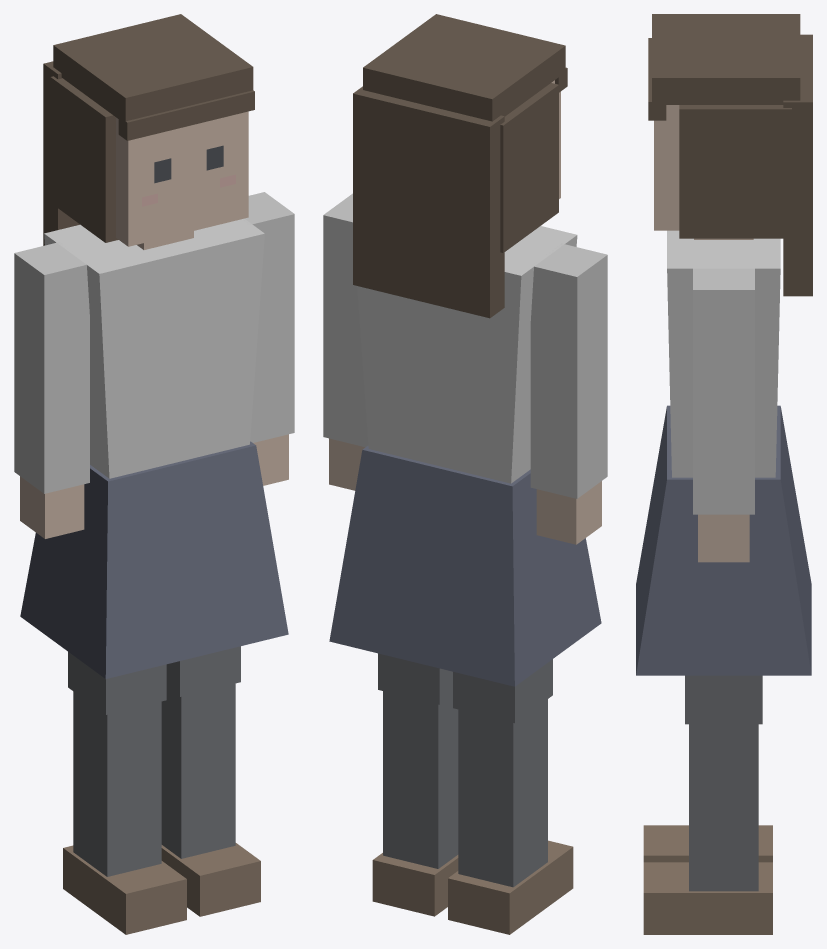
The model's file is walker_1.glb.
3 renders of one model, left to right at view 1: azimuth 30°, elevation 25°; view 2: azimuth 150°, elevation 25°; view 3: azimuth 270°, elevation 25°, orthographic. The views are drawn at different scales.
Visible parts, largest first — view 1: walker_1; view 2: walker_1; view 3: walker_1.
Boxes of the visible parts, left/top/right/bottom form: walker_1: left=14, top=14, right=294, bottom=934; walker_1: left=323, top=14, right=607, bottom=934; walker_1: left=636, top=14, right=812, bottom=934.
Size of the model in its own units: 0.5462 by 1.74 by 0.3254.
